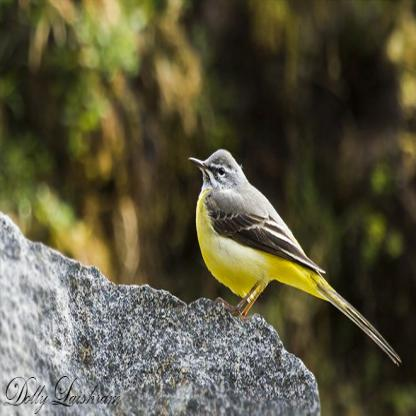Burung: (187, 146, 400, 364)
